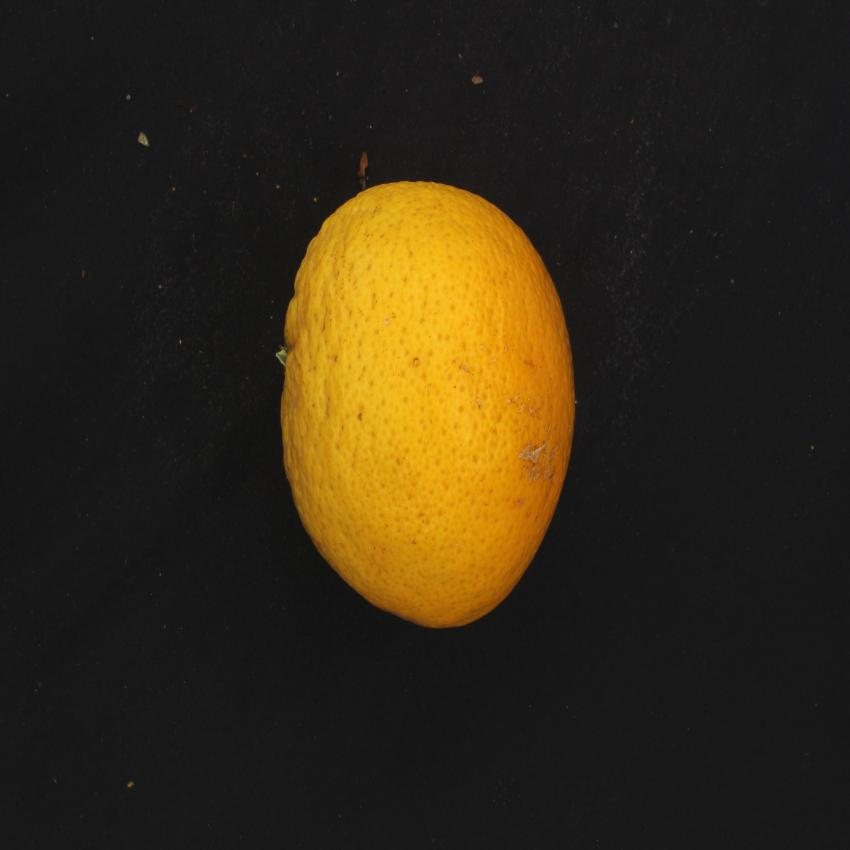Mal estado: (271, 174, 587, 638)
